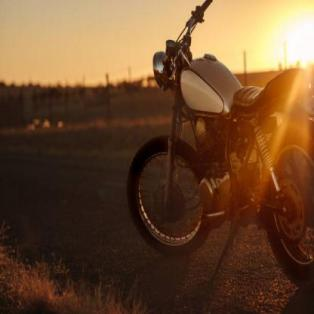Motocicleta: (120, 0, 313, 279)
